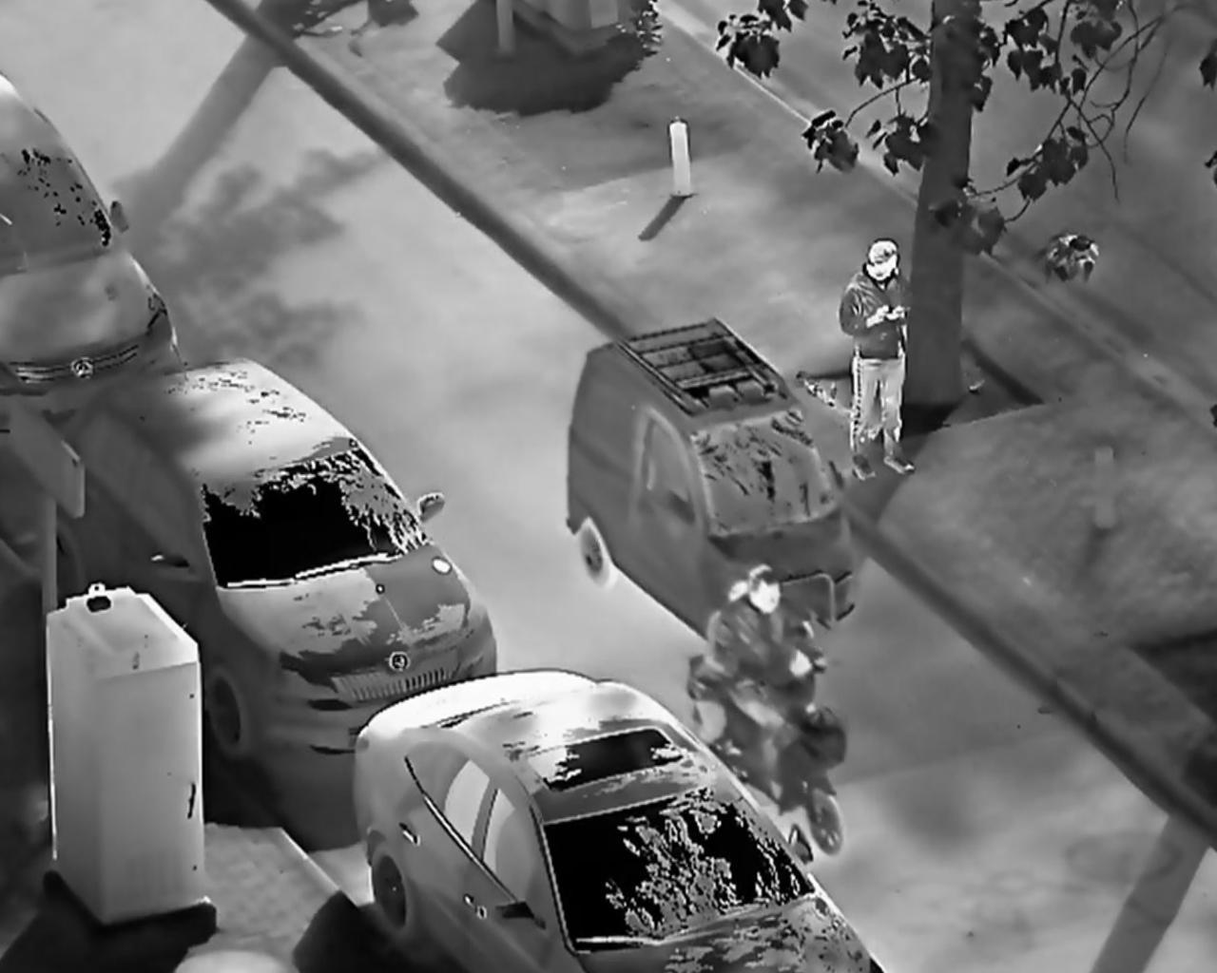person: (715, 561, 825, 791), (838, 235, 923, 485)
